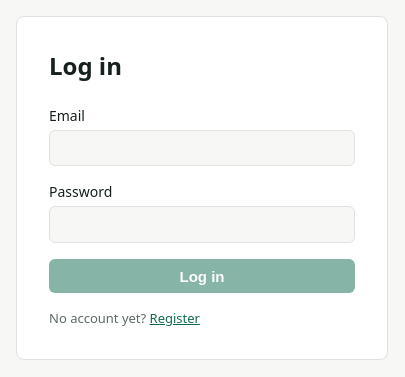
submit is disabled until the form is valid
The width and height of the screenshot is (405, 377).
Expected: the button "Log in" is disabled, x1=49 y1=259 x2=355 y2=293
Type "a@b.co" into the field labelled "Email".
click(202, 148); type("a@b.co")  # box x1=49 y1=130 x2=355 y2=166
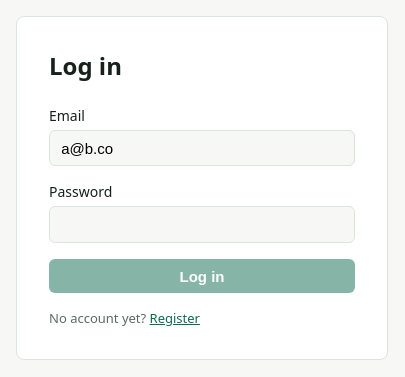
Type "pw" into the password field labelled "Password".
click(202, 224); type("pw")  # box x1=49 y1=206 x2=355 y2=243
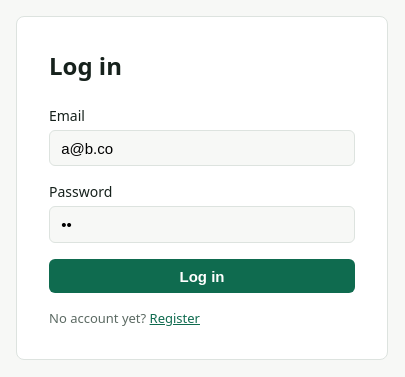
Expected: the button "Log in" is enabled, x1=49 y1=259 x2=355 y2=293
